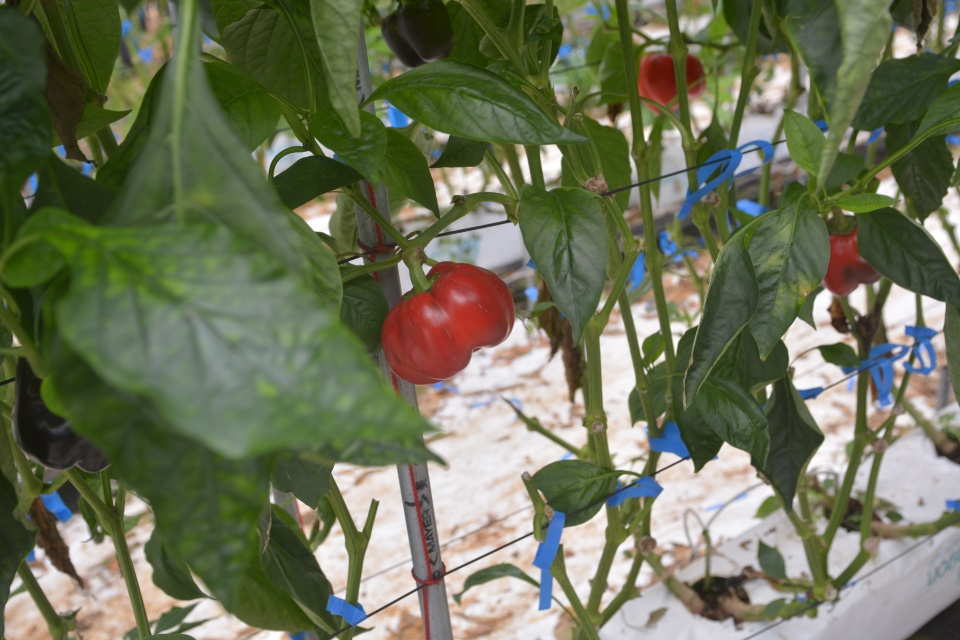fruit: (378, 258, 519, 388), (11, 354, 113, 475), (376, 0, 456, 69), (821, 211, 883, 298), (637, 44, 708, 116)
pedicle: (403, 271, 440, 296), (826, 215, 856, 235)
